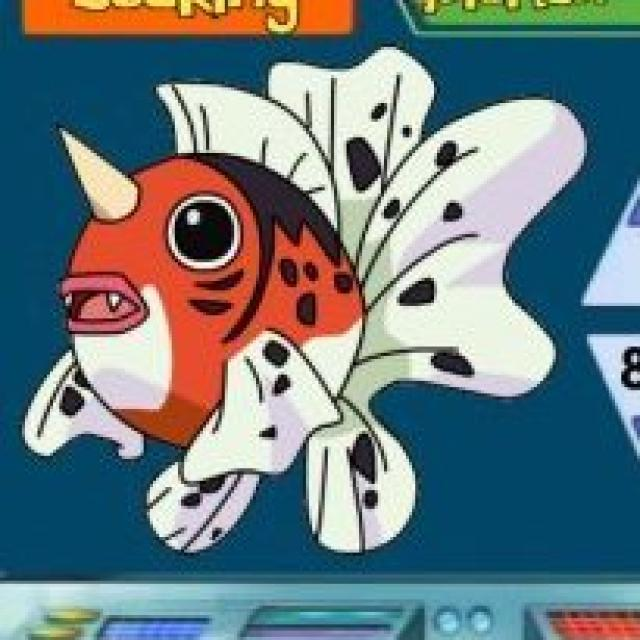Seaking: (49, 84, 443, 543)
